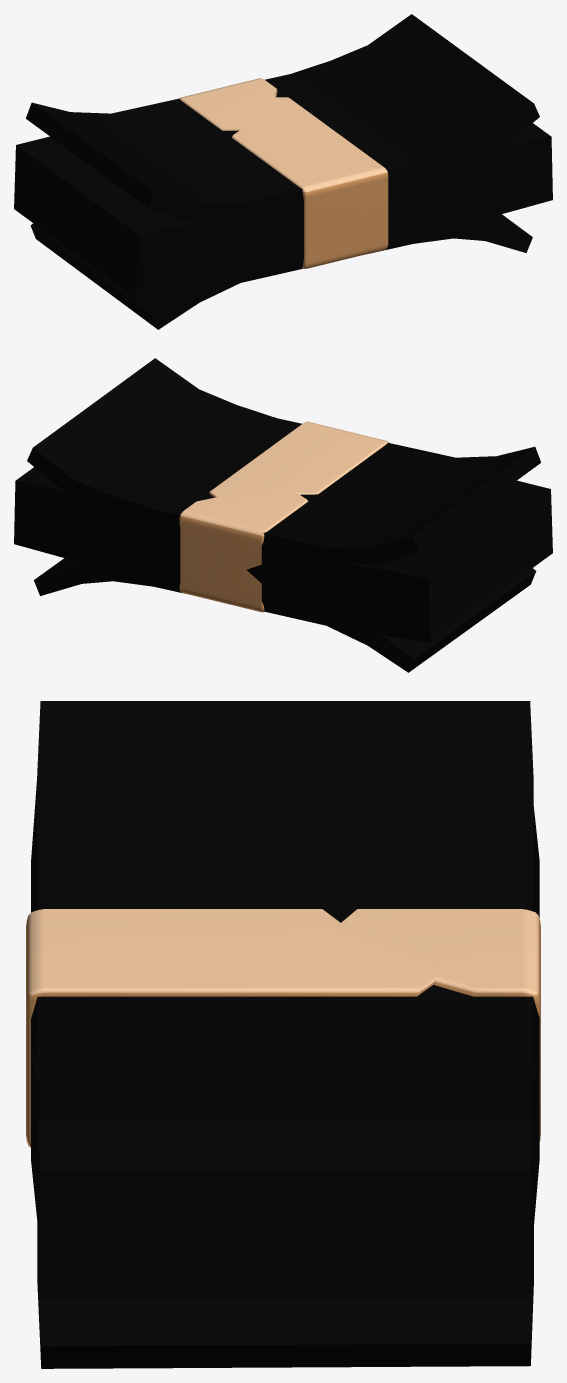
File: money_stack.fbx
3 renders of one model, top to bottom at view 1: azimuth 30°, elevation 25°; view 2: azimuth 150°, elevation 25°; view 3: azimuth 270°, elevation 25°, orthographic. The views are drawn at different scales.
Visible parts, largest first — view 1: money_outline, money_stack; view 2: money_outline, money_stack; view 3: money_outline, money_stack.
Part boxes in pixels (x1,y1,x2,y2): money_outline: (14,14,552,329); money_stack: (179,78,388,268); money_outline: (14,358,552,672); money_stack: (179,421,389,612); money_outline: (31,701,539,1368); money_stack: (26,909,540,1147).
Size of the model in its own units: 120 by 41.73 by 64.
